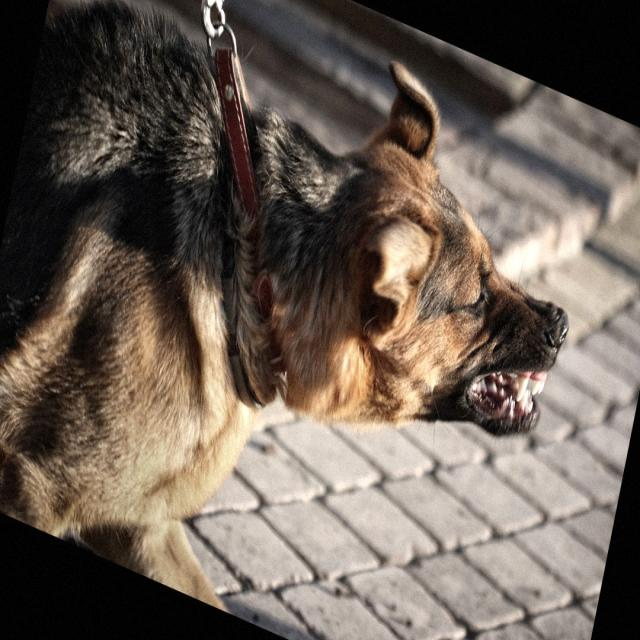angry: (0, 3, 585, 491)
